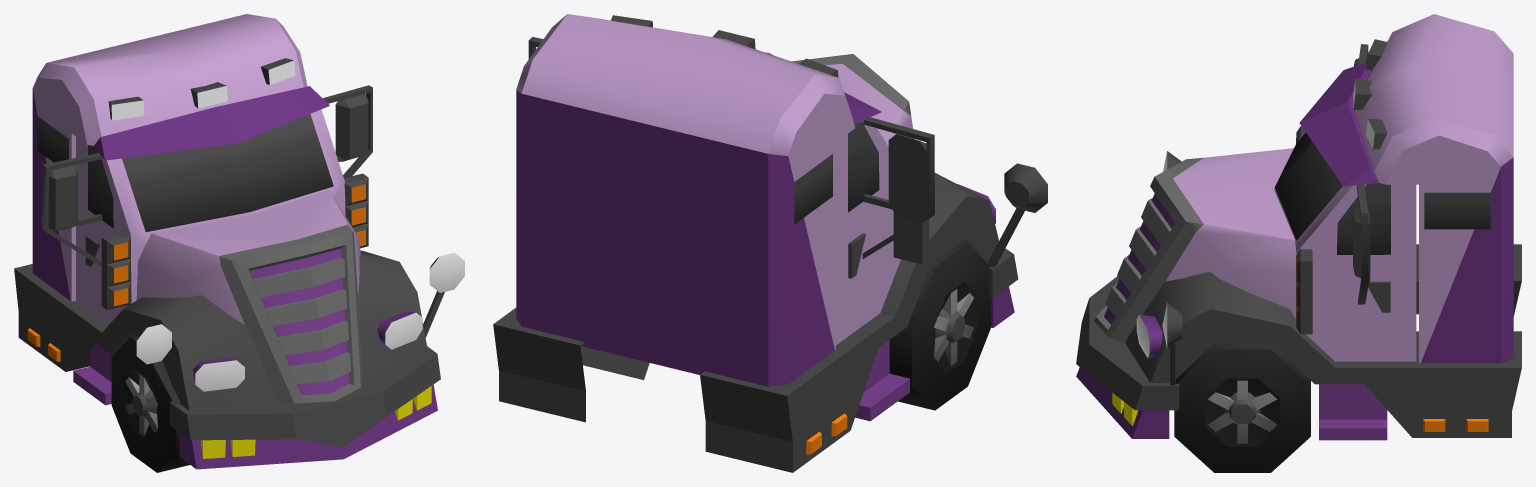
File: head_J_2.fbx
3 views of the same model, side by side, from view 1: azimuth 30°, elevation 25°; view 2: azimuth 150°, elevation 25°; view 3: azimuth 270°, elevation 25° (orthographic). The views are drawn at different scales.
Parts seen in each view (by area): view 1: head_J_2; view 2: head_J_2; view 3: head_J_2.
Part boxes in pixels (x1,y1,x2,y2): head_J_2: [14, 14, 464, 472]; head_J_2: [493, 14, 1047, 472]; head_J_2: [1076, 14, 1521, 472].
Bounding box in the file's own units: 1683 × 1590 × 1867.
